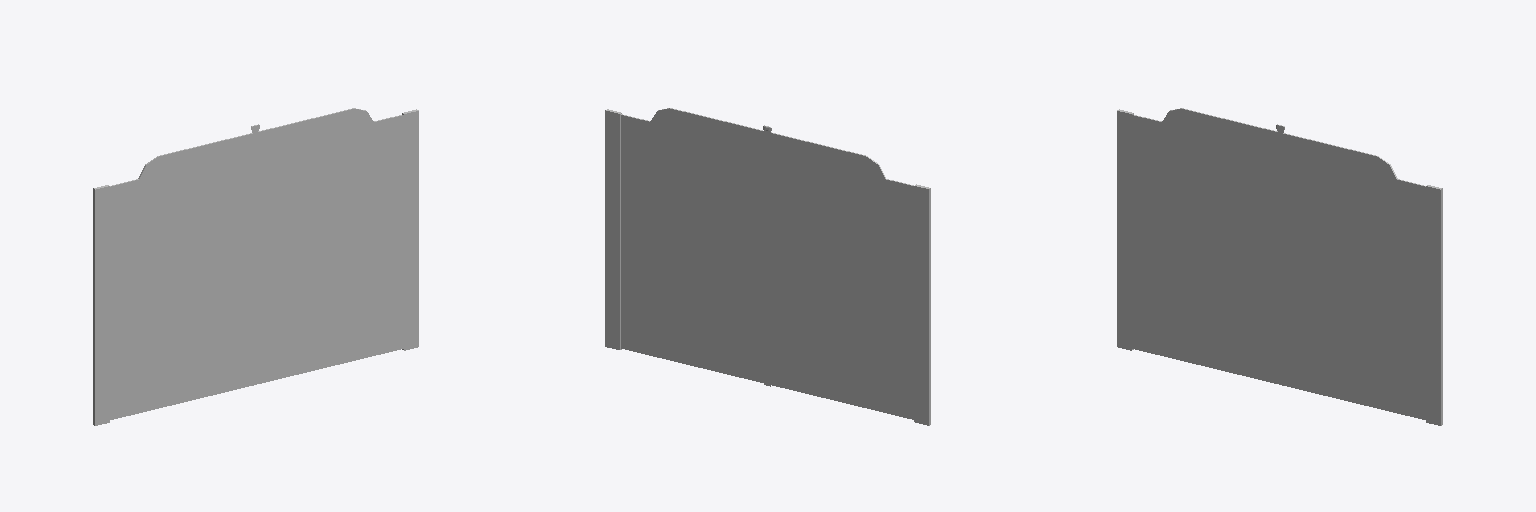
File: Gate.obj
3 renders of one model, left to right at view 1: azimuth 30°, elevation 25°; view 2: azimuth 150°, elevation 25°; view 3: azimuth 330°, elevation 25°, orthographic.
Visible parts, largest first — view 1: Cube; view 2: Cube; view 3: Cube.
Boxes of the visible parts, x1,y1,x2,y2 form: Cube: [93, 108, 418, 425]; Cube: [605, 108, 930, 425]; Cube: [1117, 108, 1442, 425].
Size of the model in its own units: 16.84 by 12.93 by 0.2002.